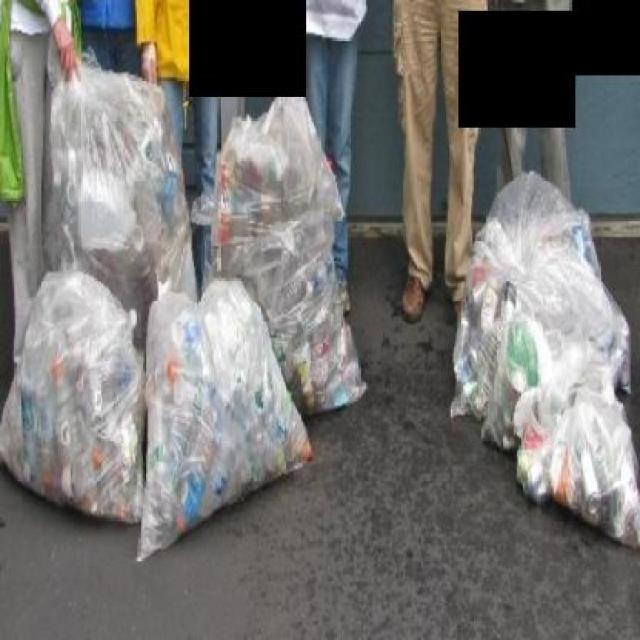plastic bag: (200, 78, 363, 411), (132, 273, 311, 562), (42, 37, 198, 355), (451, 168, 631, 440), (0, 263, 151, 522), (512, 360, 638, 548)
